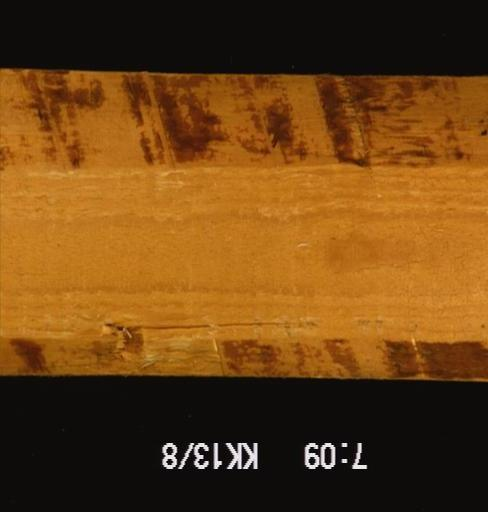split: (103, 317, 304, 340)
wave: (0, 68, 486, 193), (0, 313, 486, 379)
